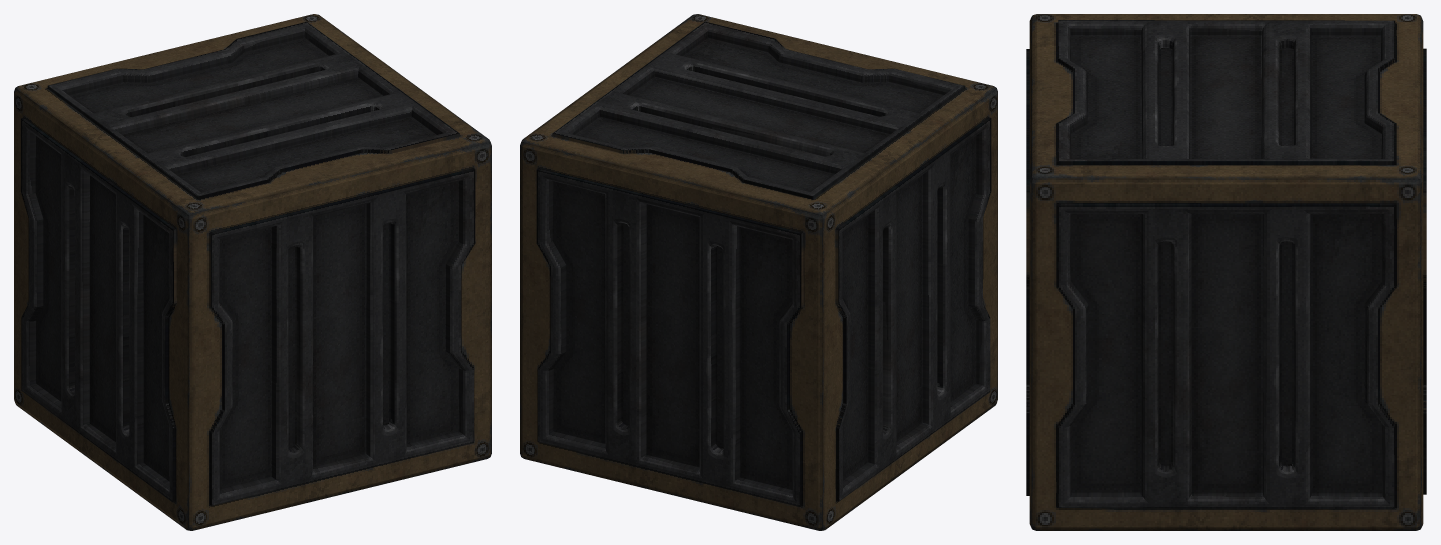
Rendered from metal_crate_3.glb.
3 views of the same model, side by side, from view 1: azimuth 30°, elevation 25°; view 2: azimuth 150°, elevation 25°; view 3: azimuth 270°, elevation 25° (orthographic). The views are drawn at different scales.
Visible parts, largest first — view 1: metal_crate_3; view 2: metal_crate_3; view 3: metal_crate_3.
Boxes of the visible parts, bbox=[...] form: metal_crate_3: bbox=[14, 14, 491, 530]; metal_crate_3: bbox=[520, 14, 997, 530]; metal_crate_3: bbox=[1026, 14, 1426, 530].
Bounding box in the file's own units: 1.12 × 1.12 × 1.12.
Materials: 1 (1 with a texture image).
